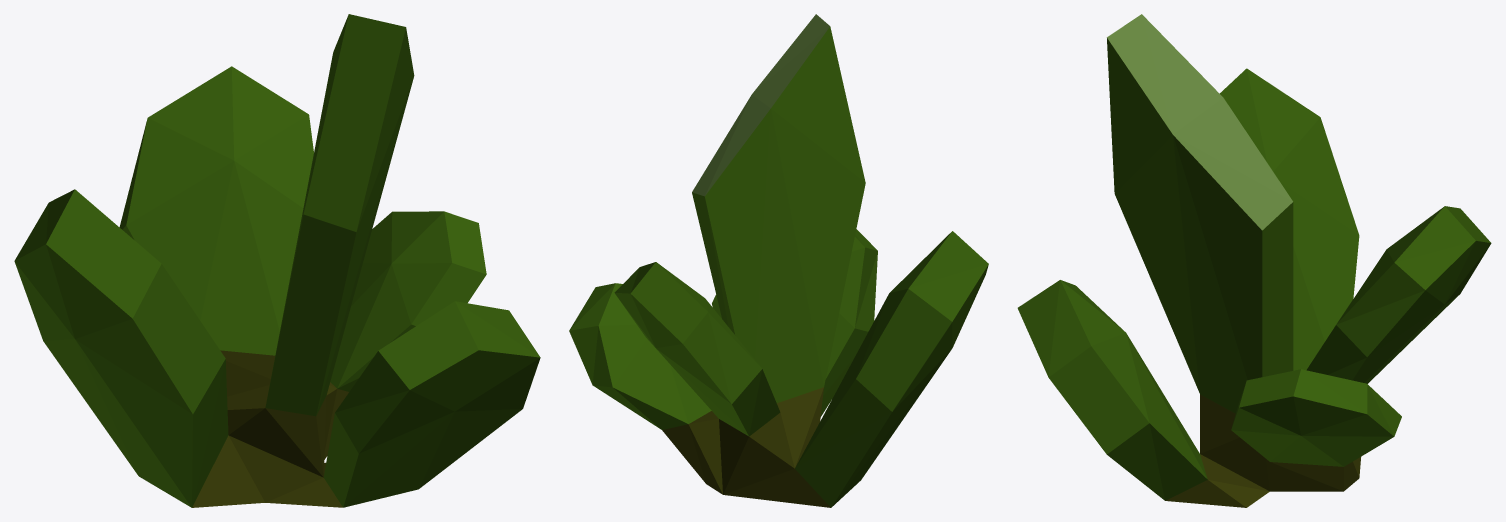
File: obj_kharidian_cactus_dry_0.obj
3 views of the same model, side by side, from view 1: azimuth 30°, elevation 25°; view 2: azimuth 150°, elevation 25°; view 3: azimuth 270°, elevation 25° (orthographic). The views are drawn at different scales.
Bounding box in the file's own units: 0.9688 × 1.02 × 0.9531.
